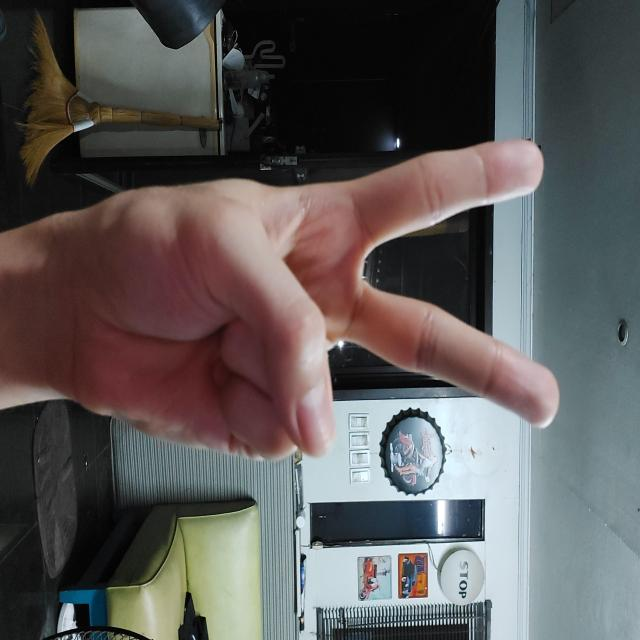V: (139, 80, 461, 570)
